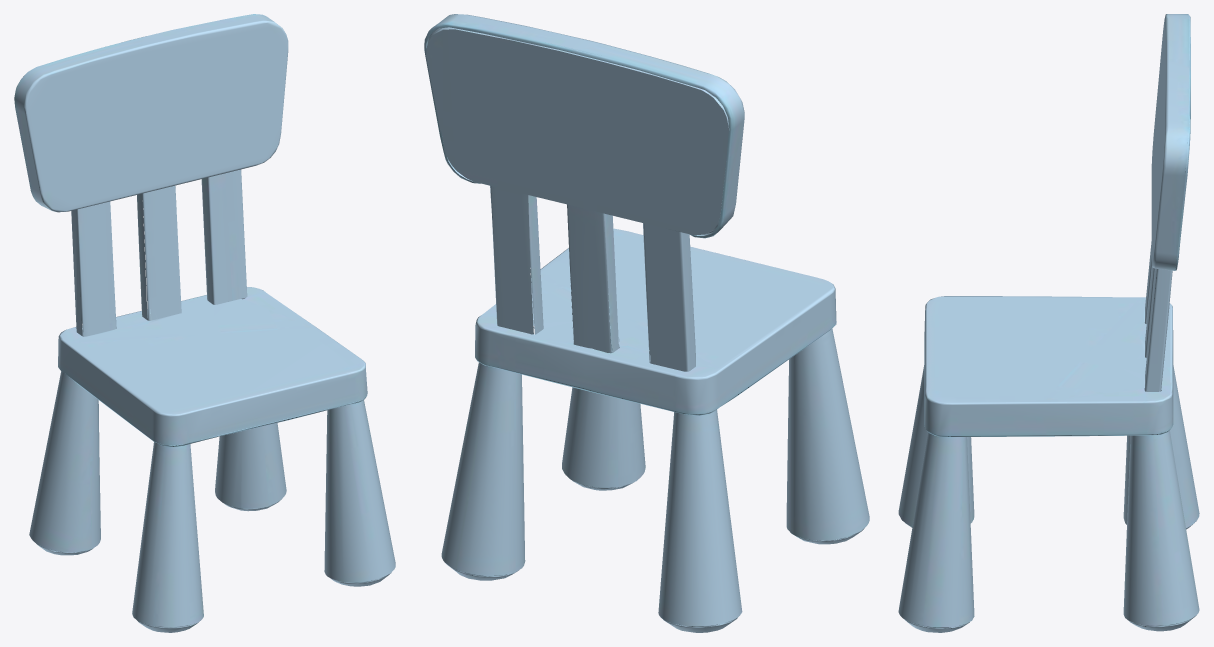
File: 03 - MAMMUT Children_s chair - inoutdoorlight blue.glb
3 renders of one model, left to right at view 1: azimuth 30°, elevation 25°; view 2: azimuth 150°, elevation 25°; view 3: azimuth 270°, elevation 25°, orthographic. The views are drawn at different scales.
Parts seen in each view (by area): view 1: ASY_ART_30581988_S01_NV01; view 2: ASY_ART_30581988_S01_NV01; view 3: ASY_ART_30581988_S01_NV01.
Part boxes in pixels (box(x1,y1,x2,y2)): ASY_ART_30581988_S01_NV01: box(14, 14, 395, 632); ASY_ART_30581988_S01_NV01: box(424, 14, 869, 632); ASY_ART_30581988_S01_NV01: box(898, 14, 1199, 632).
Bounding box in the file's own units: 0.3888 × 0.6695 × 0.3617.
Materials: 1 (1 with a texture image).
